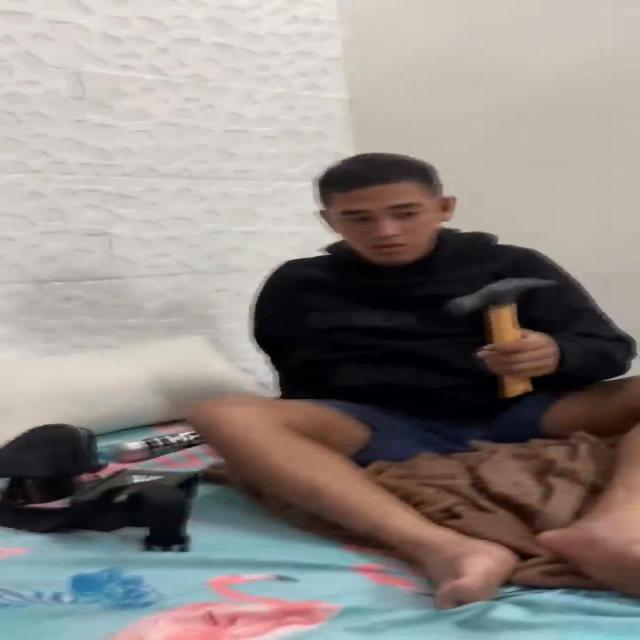hammer: (446, 277, 561, 398)
